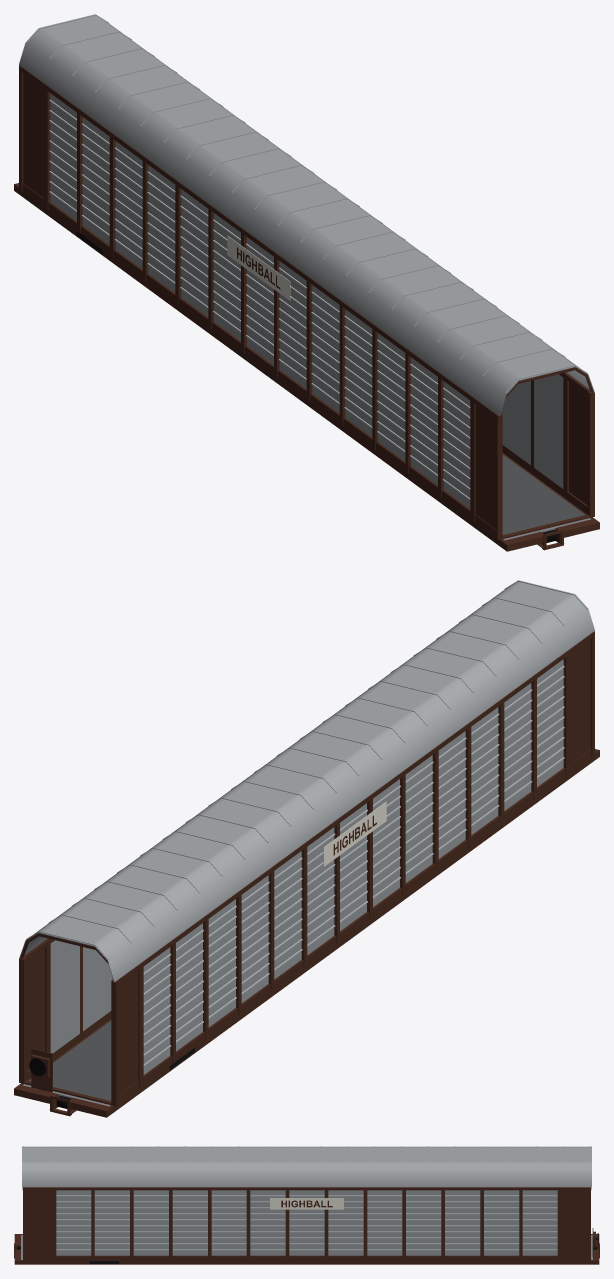
Rendered from body_hblx.glb.
The picture shows the model from 3 angles, top to bottom: view 1: azimuth 30°, elevation 25°; view 2: azimuth 150°, elevation 25°; view 3: azimuth 270°, elevation 25°; orthographic projection. The views are drawn at different scales.
Visible parts, largest first — view 1: Roof, Screen, Rack, ScreenRib, Frame, Deck, Plate; view 2: Roof, Screen, Rack, ScreenRib, Frame, Deck, Plate; view 3: Screen, Roof, Rack, ScreenRib, Frame, Plate, PlateText.
Part boxes in pixels (box(x1,y1,x2,y2)): Roof: box(19, 14, 594, 416); Screen: box(50, 93, 563, 508); Rack: box(19, 65, 594, 540); ScreenRib: box(49, 100, 470, 500); Frame: box(14, 183, 599, 551); Deck: box(502, 454, 584, 534); Plate: box(227, 235, 290, 300); Roof: box(19, 580, 594, 982); Screen: box(50, 659, 563, 1074); Rack: box(19, 631, 594, 1106); ScreenRib: box(143, 666, 564, 1066); Frame: box(14, 749, 599, 1117); Deck: box(29, 1020, 111, 1100); Plate: box(323, 801, 386, 866); Screen: box(56, 1190, 557, 1255); Roof: box(22, 1146, 591, 1187); Rack: box(22, 1187, 591, 1261); ScreenRib: box(56, 1195, 557, 1250); Frame: box(14, 1228, 599, 1264); Plate: box(270, 1198, 343, 1209); PlateText: box(281, 1200, 332, 1207).
Bounding box in the file's own units: 3.12 × 5.39 × 27.49.
